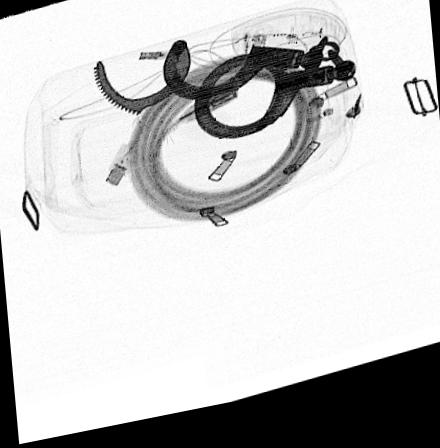HandCuffs: (91, 46, 359, 151)
